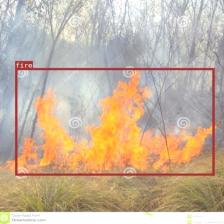fire: (15, 68, 214, 175)
